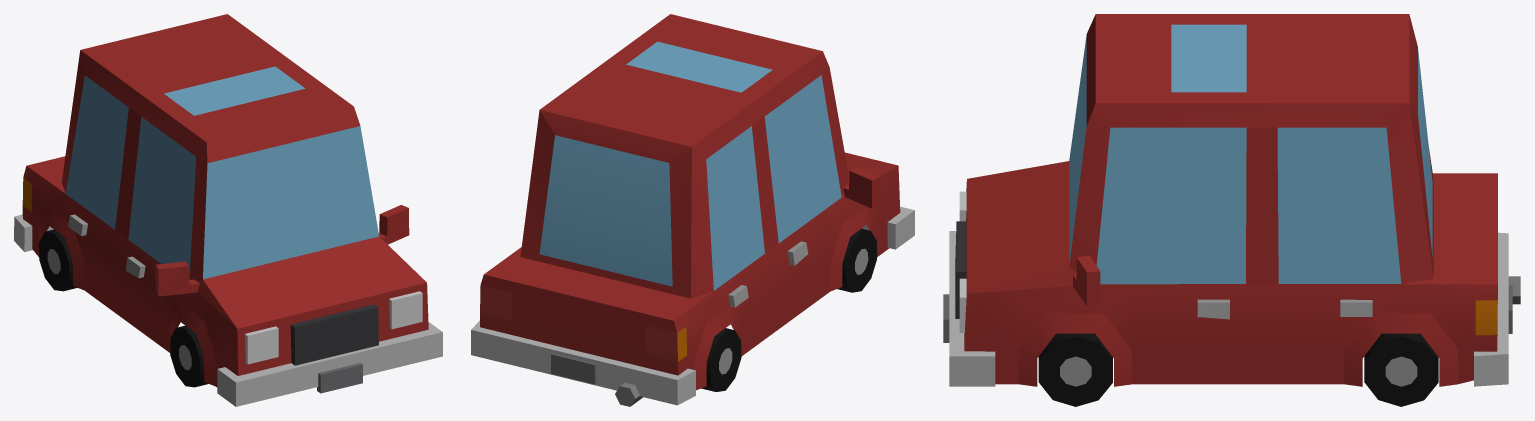
The model's file is Car_05_red.fbx.
The picture shows the model from 3 angles, left to right: view 1: azimuth 30°, elevation 25°; view 2: azimuth 150°, elevation 25°; view 3: azimuth 270°, elevation 25°; orthographic projection. The views are drawn at different scales.
Parts seen in each view (by area): view 1: Car_05_red; view 2: Car_05_red; view 3: Car_05_red.
Part boxes in pixels (<box>): Car_05_red: <box>14,14,442,406</box>; Car_05_red: <box>471,14,914,406</box>; Car_05_red: <box>943,14,1520,406</box>.
Bounding box in the file's own units: 57.9 × 50.92 × 93.1.
